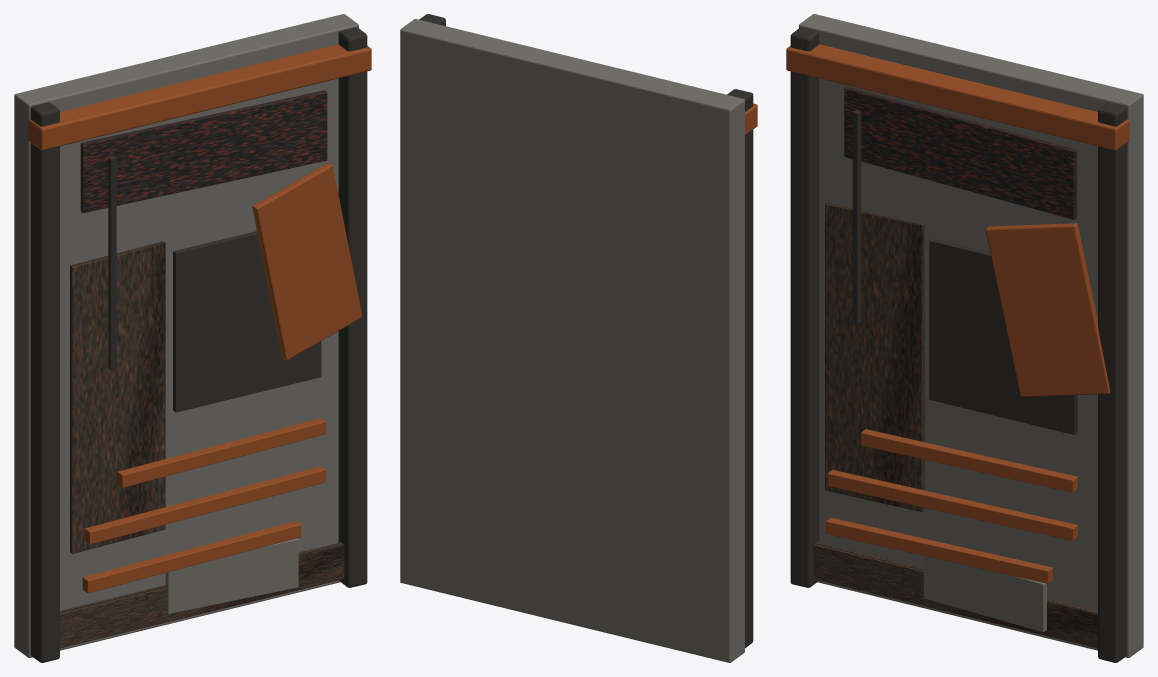
File: rugged_basement_wall_b.glb
3 renders of one model, left to right at view 1: azimuth 30°, elevation 25°; view 2: azimuth 150°, elevation 25°; view 3: azimuth 330°, elevation 25°, orthographic.
Visible parts, largest first — view 1: Broken concrete backing, Left surviving plate, High bent plate, Missing panel cavity, Left uneven upright, Right uneven upright, Loose hanging plate, Salvaged lintel, Damp floor skirt, Cracked base stone, Nailed timber slat.001, Nailed timber slat (+2 smaller); view 2: Broken concrete backing, Left uneven upright; view 3: Broken concrete backing, Left surviving plate, High bent plate, Loose hanging plate, Left uneven upright, Right uneven upright, Missing panel cavity, Salvaged lintel, Damp floor skirt, Cracked base stone, Nailed timber slat.001, Nailed timber slat (+2 smaller).
Boxes of the visible parts, box(x1,y1,x2,y2) form: Broken concrete backing: box(14, 14, 358, 657); Left surviving plate: box(70, 241, 165, 553); High bent plate: box(80, 90, 327, 212); Missing panel cavity: box(173, 231, 321, 412); Left uneven upright: box(30, 102, 59, 662); Right uneven upright: box(338, 27, 367, 587); Loose hanging plate: box(252, 163, 362, 360); Salvaged lintel: box(28, 44, 371, 150); Damp floor skirt: box(60, 542, 344, 648); Cracked base stone: box(165, 538, 298, 614); Nailed timber slat.001: box(84, 466, 325, 544); Nailed timber slat: box(82, 521, 301, 593); Broken concrete backing: box(400, 19, 744, 662); Left uneven upright: box(727, 89, 753, 648); Broken concrete backing: box(799, 14, 1143, 657); Left surviving plate: box(825, 202, 924, 511); High bent plate: box(844, 86, 1076, 219); Loose hanging plate: box(985, 223, 1110, 397); Left uneven upright: box(790, 27, 819, 587); Right uneven upright: box(1098, 102, 1127, 662); Missing panel cavity: box(929, 238, 1077, 435); Salvaged lintel: box(786, 44, 1129, 150); Damp floor skirt: box(813, 542, 1097, 648); Cracked base stone: box(923, 556, 1046, 632); Nailed timber slat.001: box(827, 469, 1077, 540); Nailed timber slat: box(826, 517, 1052, 583).
Bounding box in the file's own units: 2 × 3.2 × 0.3752.
Materials: 5 (2 with a texture image).
